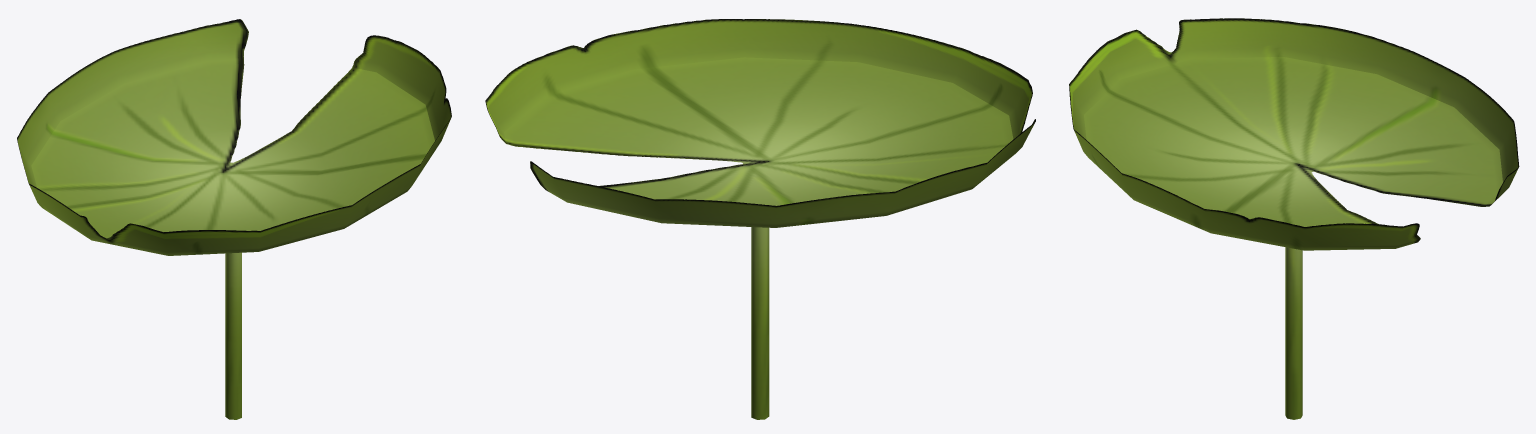
The model's file is Moonset_FBX_nenuphar_03.fbx.
3 renders of one model, left to right at view 1: azimuth 30°, elevation 25°; view 2: azimuth 150°, elevation 25°; view 3: azimuth 270°, elevation 25°, orthographic. The views are drawn at different scales.
Parts seen in each view (by area): view 1: nenufar1; view 2: nenufar1; view 3: nenufar1.
Part boxes in pixels (x1,y1,x2,y2): nenufar1: (17, 19, 451, 419); nenufar1: (485, 19, 1035, 419); nenufar1: (1069, 18, 1519, 419).
Size of the model in its own units: 1.84 by 1.21 by 1.69.
